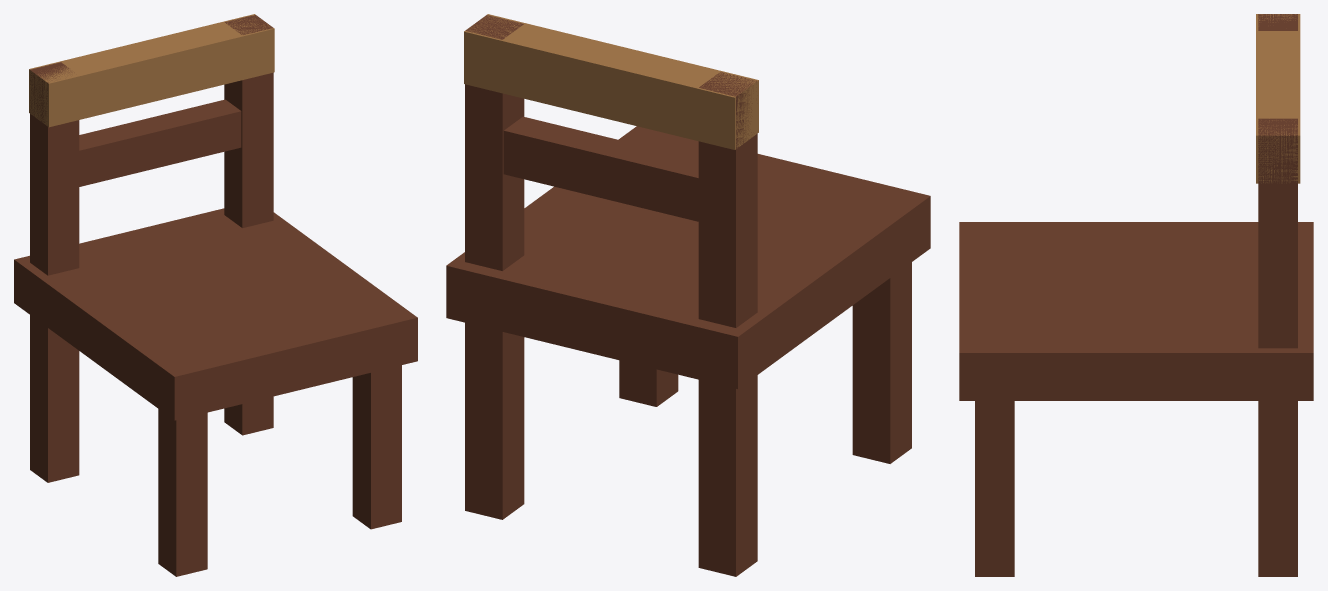
Rendered from chair.glb.
3 renders of one model, left to right at view 1: azimuth 30°, elevation 25°; view 2: azimuth 150°, elevation 25°; view 3: azimuth 270°, elevation 25°, orthographic. The views are drawn at different scales.
Parts seen in each view (by area): view 1: 靠背木椅; view 2: 靠背木椅; view 3: 靠背木椅.
Part boxes in pixels (box(x1,y1,x2,y2)): 靠背木椅: box(14, 14, 417, 576); 靠背木椅: box(446, 14, 930, 576); 靠背木椅: box(959, 14, 1313, 576).
Bounding box in the file's own units: 0.7 × 1.1 × 0.8.
